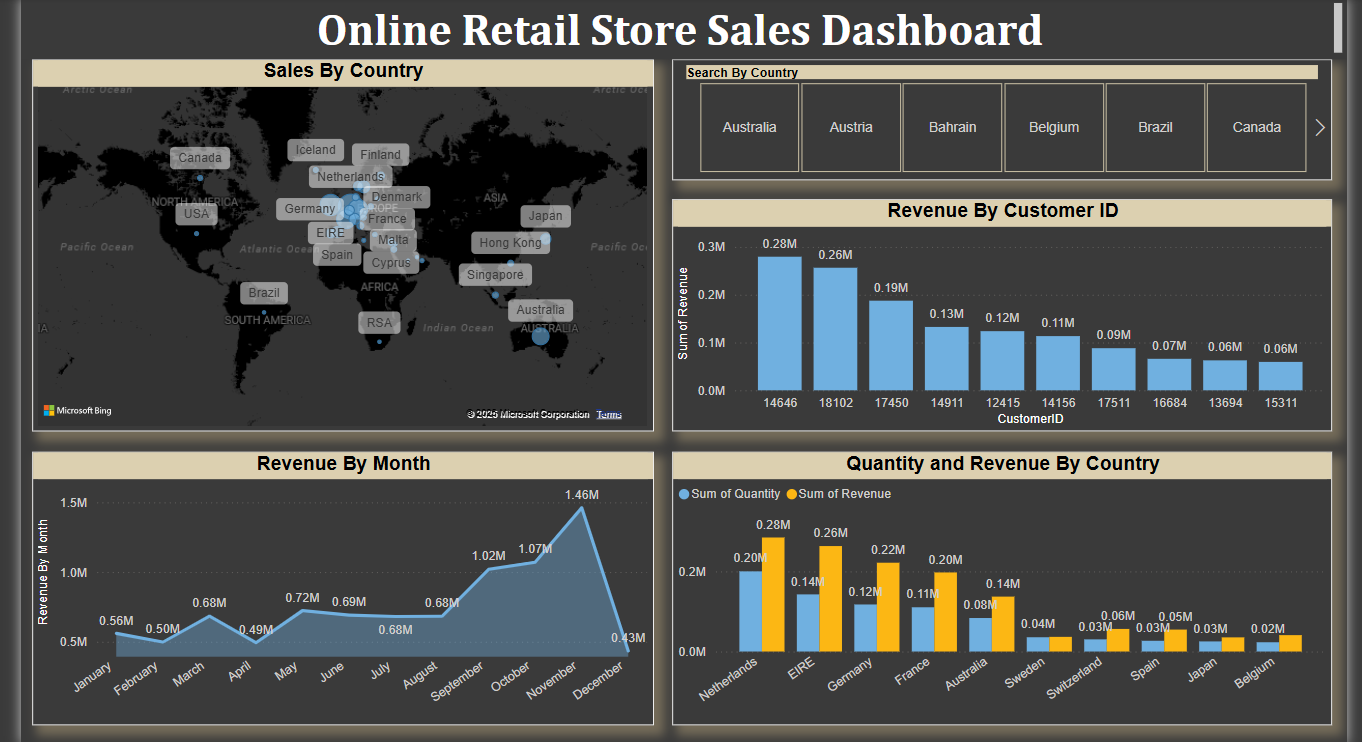

The dashboard page shown, as its layout file describes it:
{"tool":"powerbi","page":{"name":"Page 1","canvas":[1280,720],"ordinal":0},"visuals":[{"type":"lineChart","title":"Revenue By Month","fields":{"Category":["Online Retail.InvoiceDate.Variation.Date Hierarchy.Month"],"Y":["Sum(Online Retail.Revenue)"]},"box":[10.9,437.9,599.6,264.2],"z":0},{"type":"clusteredColumnChart","title":"Quantity and Revenue By Country","fields":{"Category":["Online Retail.Country"],"Y":["Sum(Online Retail.Quantity)","Sum(Online Retail.Revenue)"]},"box":[628.6,437.9,637,264.2],"z":1000},{"type":"clusteredColumnChart","title":" Revenue By Customer  ID","fields":{"Category":["Online Retail.CustomerID"],"Y":["Sum(Online Retail.Revenue)"]},"box":[628.6,194.2,637,224.4],"z":2000},{"type":"map","title":"Sales By Country","fields":{"Category":["Online Retail.Country"],"Size":["Sum(Online Retail.Quantity)"]},"box":[10.9,59.1,599.6,359.5],"z":3000},{"type":"slicer","fields":{"Values":["Online Retail.Country"]},"box":[628.6,59.1,637,117],"z":4000},{"type":"textbox","box":[0,0,1280,59.1],"z":5000}]}

Visuals, with their boxes in screenshot pixels (x1, y1, x2, y2):
"Revenue By Month" lineChart: x1=19 y1=450 x2=650 y2=728
"Quantity and Revenue By Country" clusteredColumnChart: x1=669 y1=450 x2=1339 y2=728
" Revenue By Customer  ID" clusteredColumnChart: x1=669 y1=194 x2=1339 y2=430
"Sales By Country" map: x1=19 y1=52 x2=650 y2=430
slicer - Online Retail.Country: x1=669 y1=52 x2=1339 y2=175
textbox: x1=7 y1=0 x2=1354 y2=52
